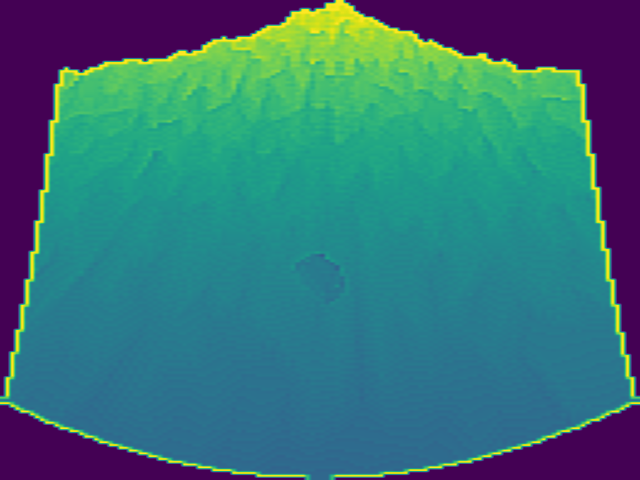car_0198: (293, 253, 347, 303)
